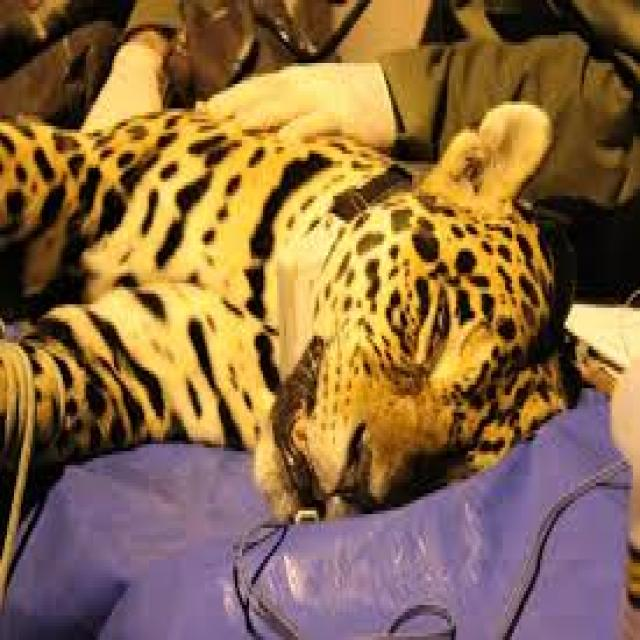Jaguar: (0, 102, 570, 528)
